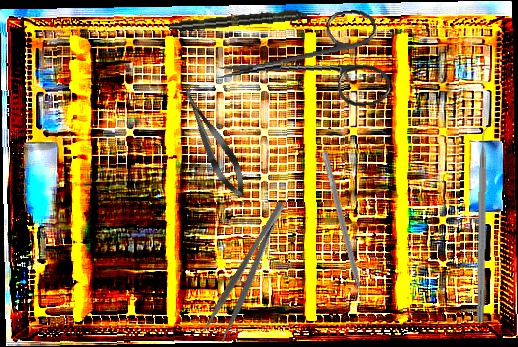Chopper: (476, 117, 499, 324)
Dressing Forceps: (200, 200, 299, 343)
Handpiece: (168, 7, 321, 34)
Iris Scissors: (210, 6, 393, 124)
Micro Scissor: (175, 82, 253, 203)
Spatula Surgical: (314, 150, 370, 311)
